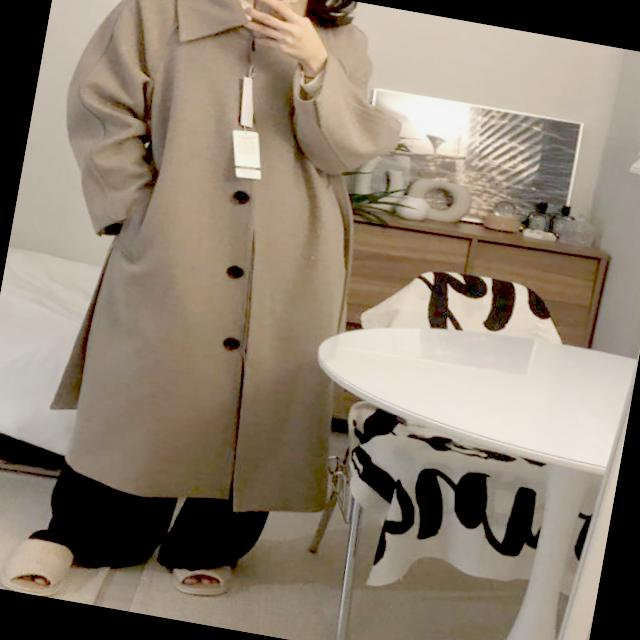coat: (0, 0, 422, 532)
slacks: (20, 455, 266, 588)
